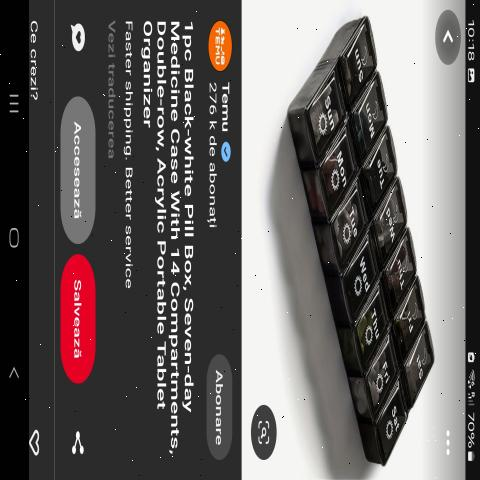PillBox: (282, 29, 445, 468)
